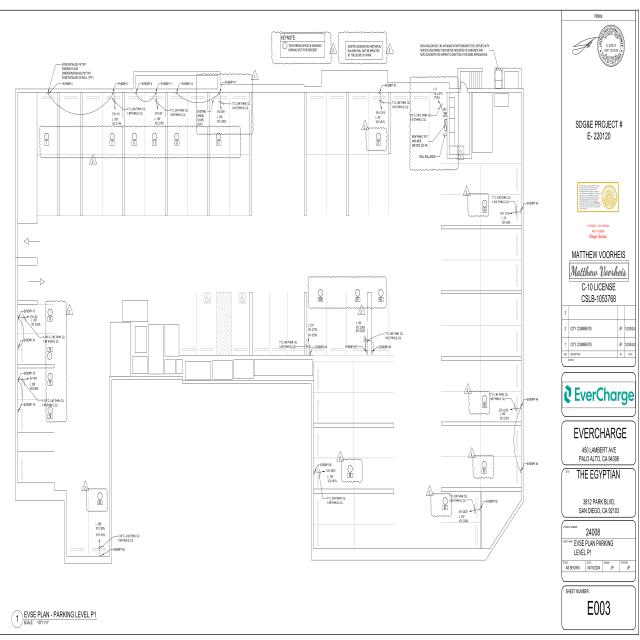evse: (518, 204, 524, 220), (518, 465, 524, 480), (519, 400, 524, 416), (312, 469, 317, 483), (306, 351, 316, 358), (370, 346, 375, 359), (376, 90, 386, 96), (364, 347, 369, 359), (45, 90, 53, 97), (16, 342, 20, 356), (16, 406, 20, 420), (132, 90, 141, 96), (152, 90, 161, 96), (173, 90, 182, 96), (216, 90, 224, 96), (110, 90, 118, 95), (96, 554, 104, 559), (17, 376, 20, 388), (17, 315, 20, 326), (480, 504, 482, 516)
gfi: (442, 112, 448, 115)
panel: (444, 118, 448, 134)
